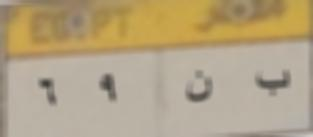6: (35, 75, 61, 107)
9: (96, 68, 124, 105)
baa: (249, 65, 294, 98)
noon: (184, 67, 216, 109)
